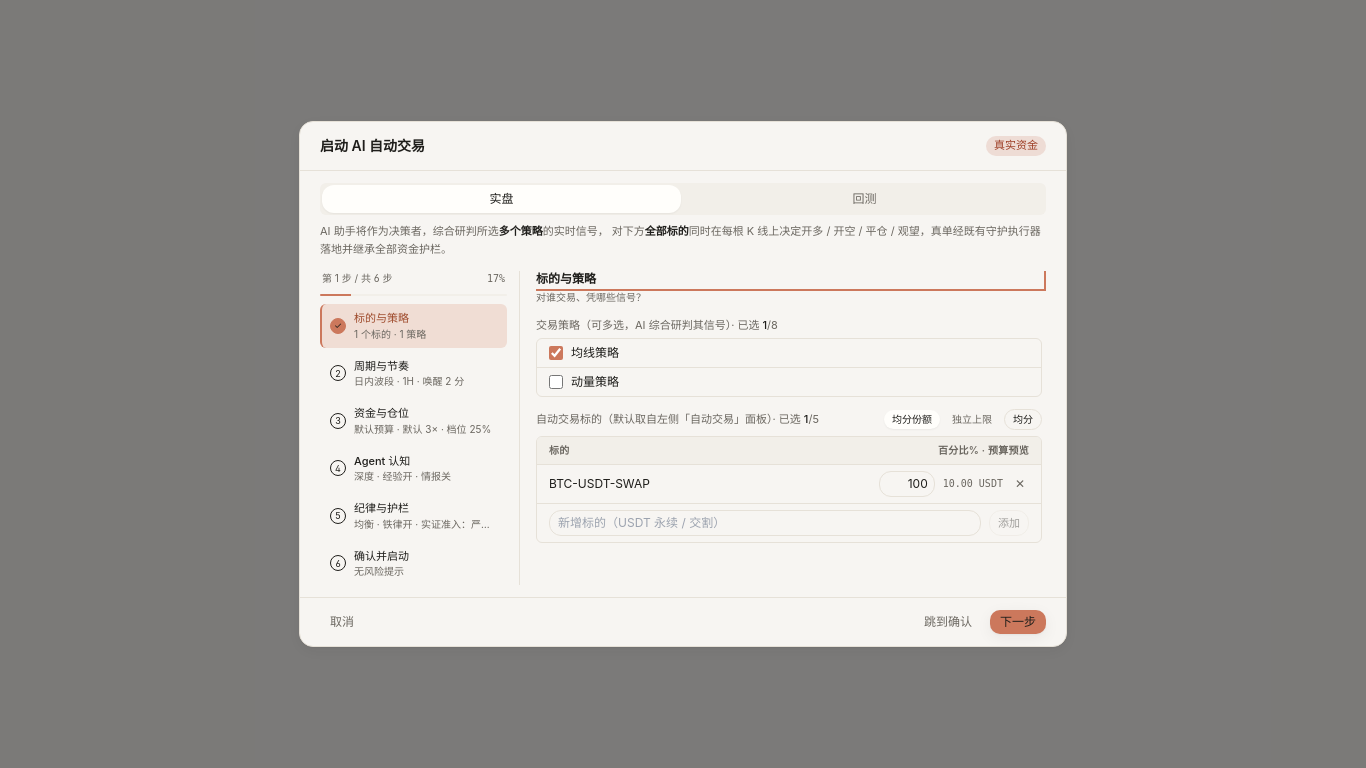
it: 后训练轨迹采集 · 向导（trajectory-capture F-5 / F-9） › W-T1 勾选采集 + 校验回执 ok=false ⇒ 第 6 步启动按钮禁用，兜底行指向第 4 步
Expected: the text "均线策略" is shown, [571,345,619,361]
Click the tab "Agent 认知". click: {"x": 414, "y": 468}
box: [320,447,507,490]
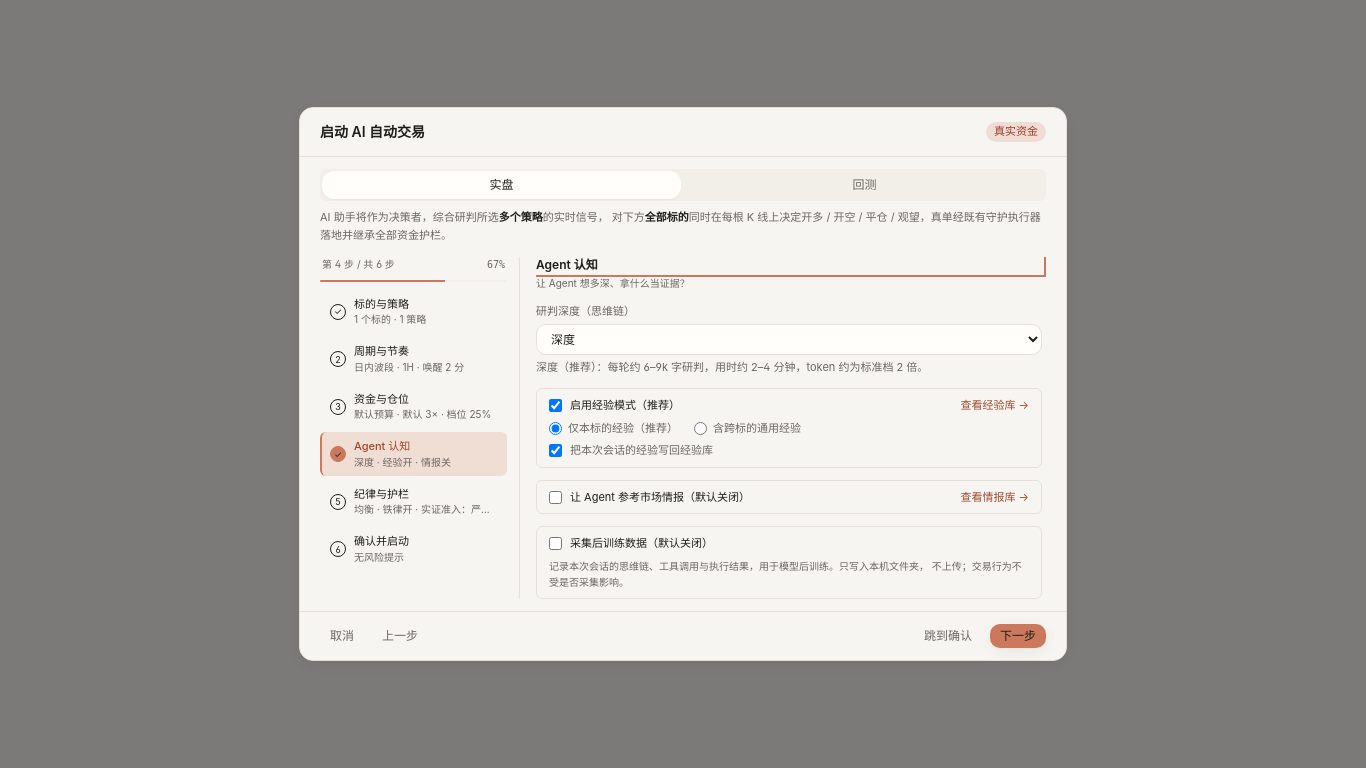
Result: the checkbox labelled "采集后训练数据（默认关闭）" is enabled
Click the checkbox labelled "采集后训练数据（默认关闭）". click: {"x": 556, "y": 544}
box: [549,537,562,550]
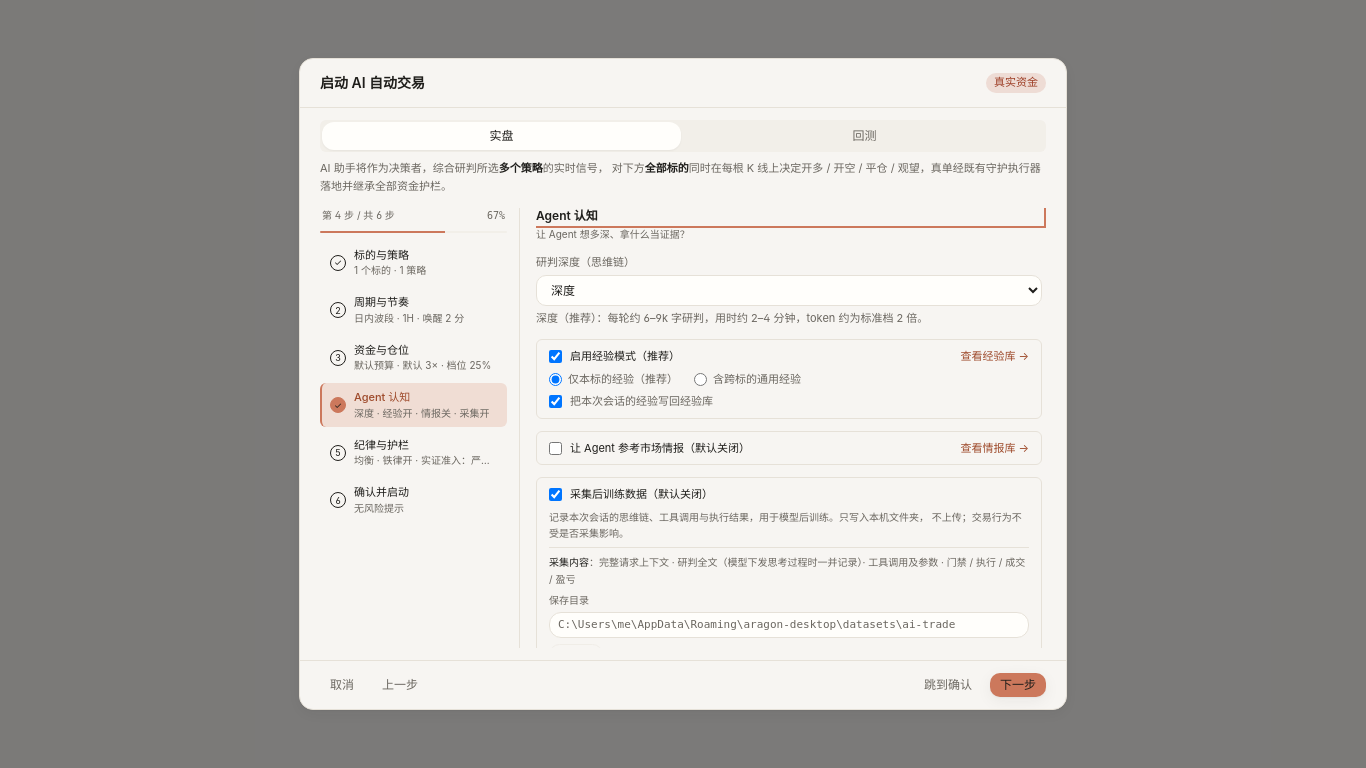
Type "D:\\locked" into the field named "后训练数据保存目录". click: {"x": 789, "y": 625}
box: [549,612,1029,638]
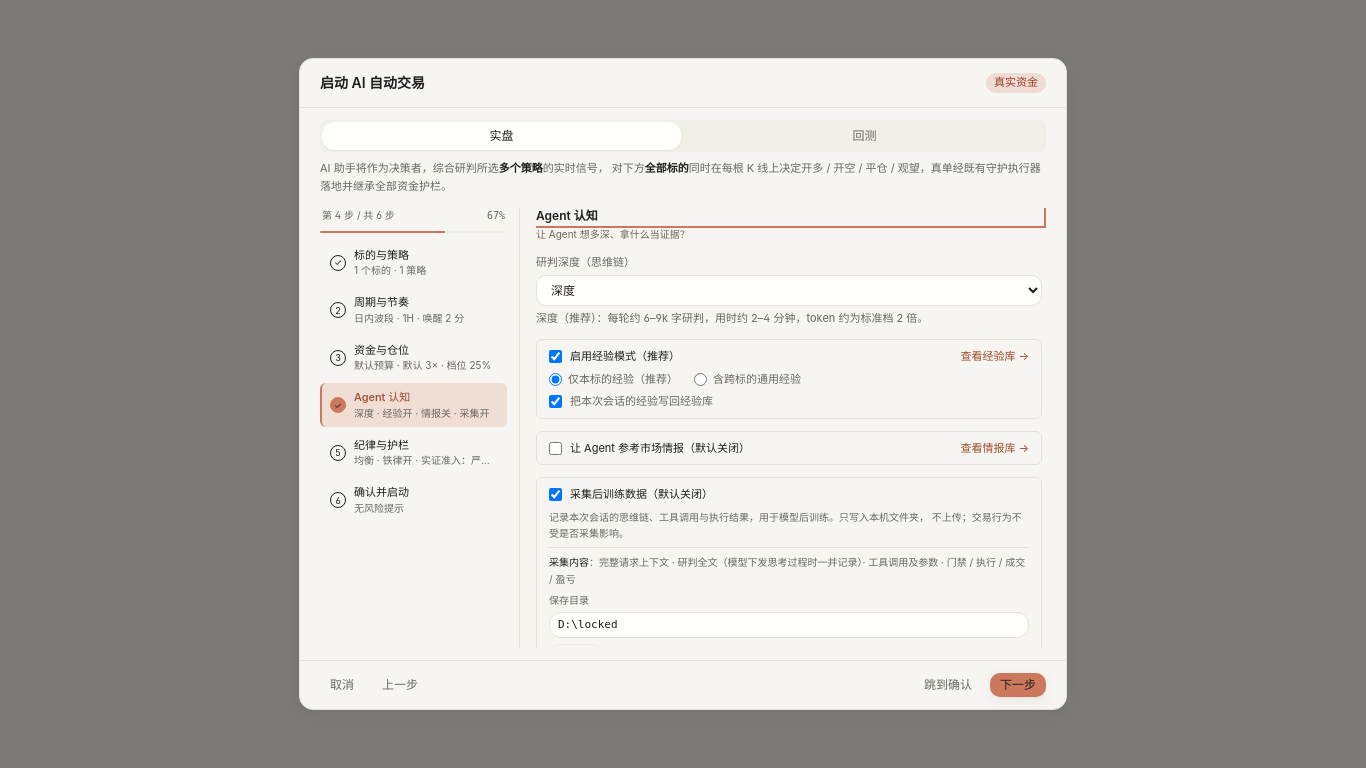
Leave the field named "后训练数据保存目录", box [549,612,1029,638]
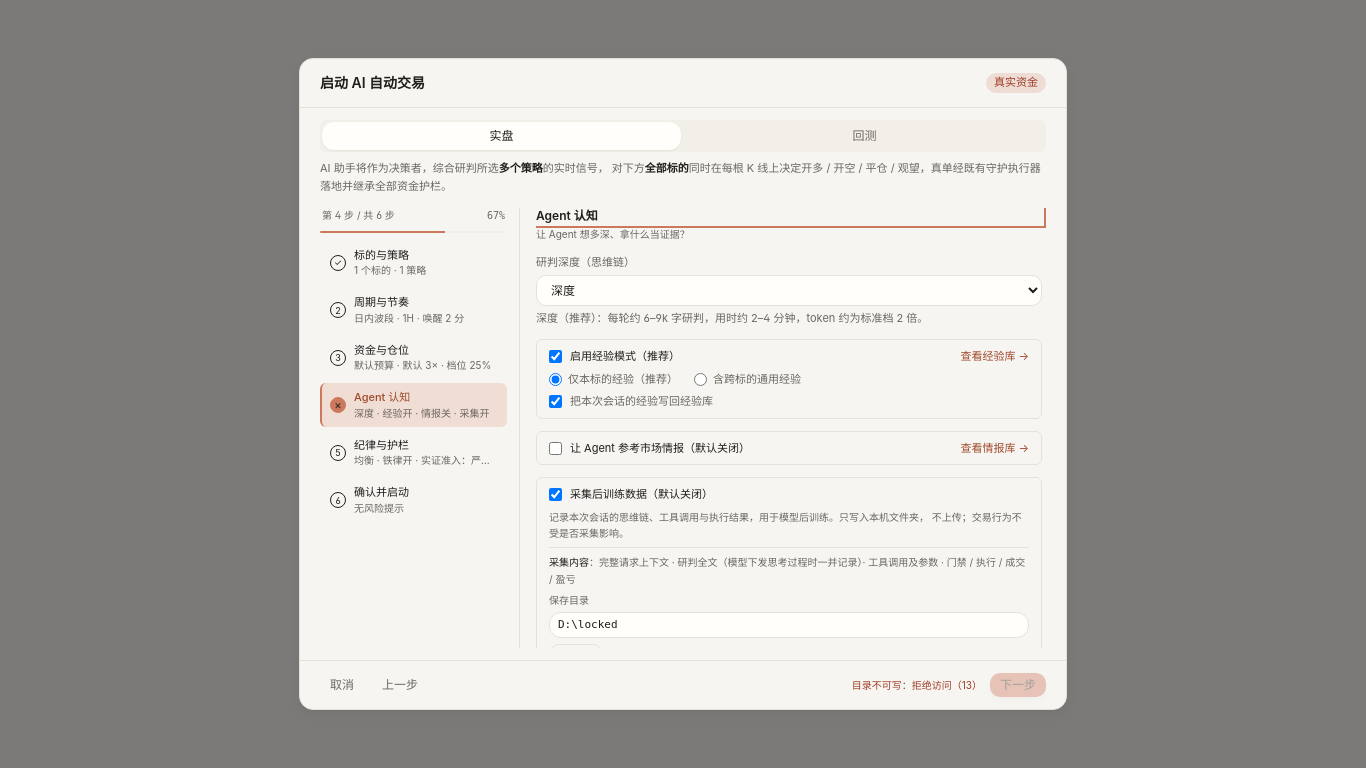
Result: the button "下一步" is disabled at [990,673,1046,697]
Result: the button "跳到确认" is gone
Click the tab "6 确认并启动 无风险提示". click: {"x": 414, "y": 500}
box: [320,478,507,522]
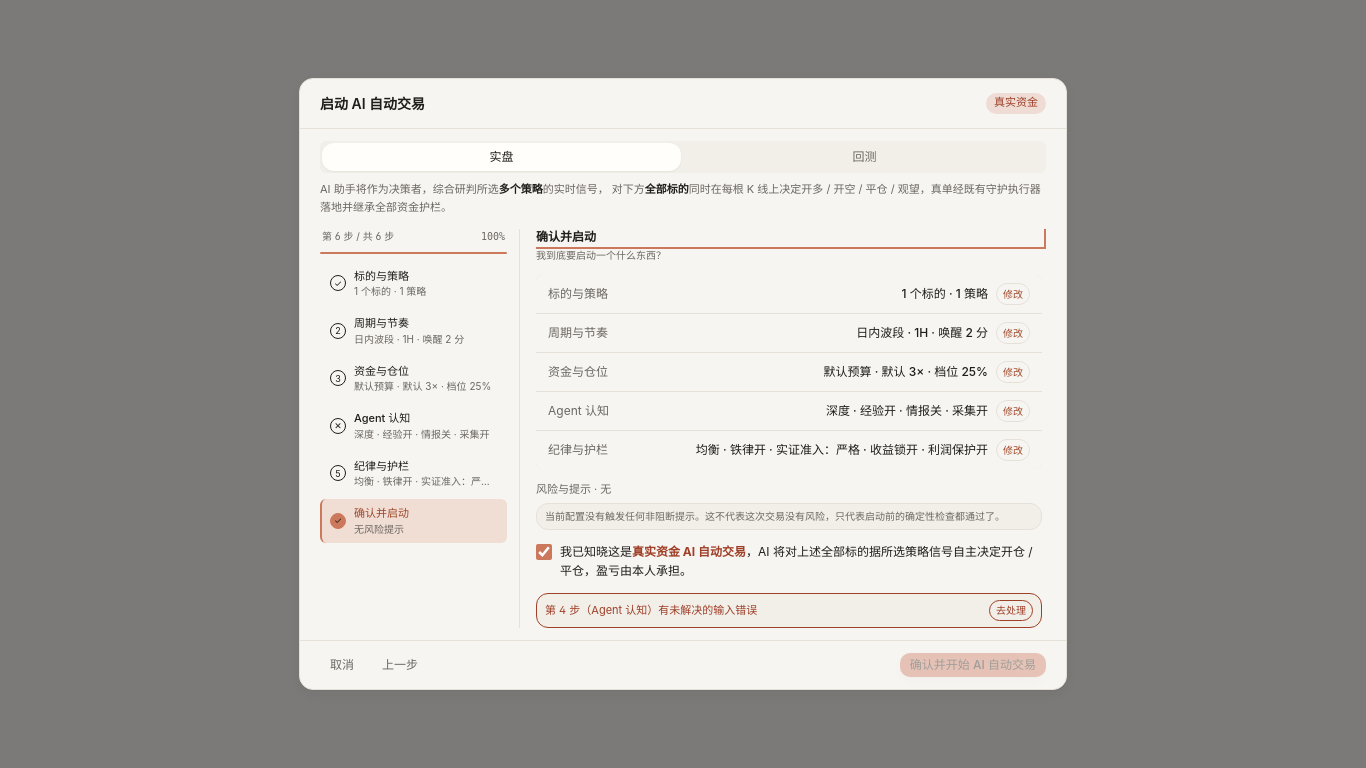
Result: the button "确认并开始 AI 自动交易" is disabled at [900,653,1046,677]
Result: the element with test id "ai-launch-blocking-step" shows "第 4 步（Agent 认知）有未解决的输入错误" at [536,593,1042,628]
